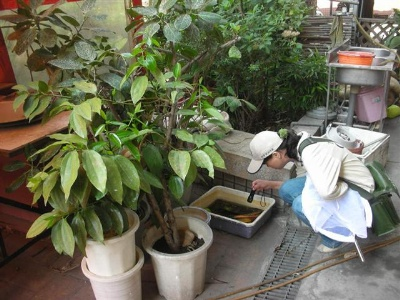bowl: (328, 46, 397, 88)
box: (189, 184, 276, 238)
bucket: (356, 87, 388, 124), (337, 50, 376, 66)
